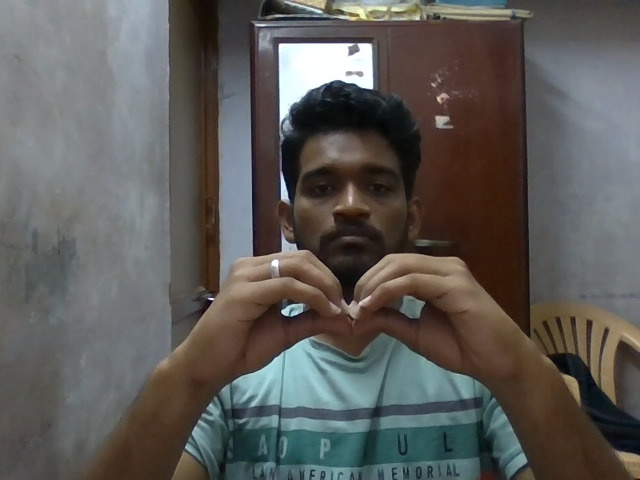B: (136, 244, 556, 408)
